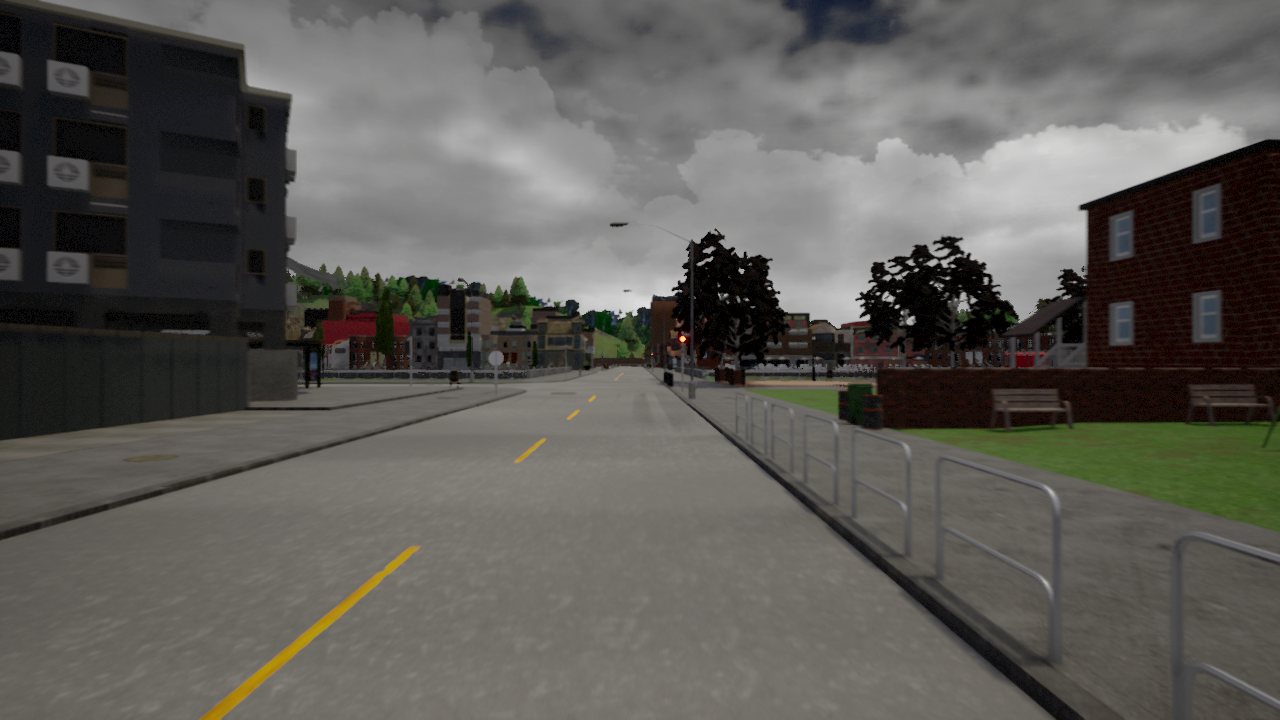red: (678, 335, 685, 353)
